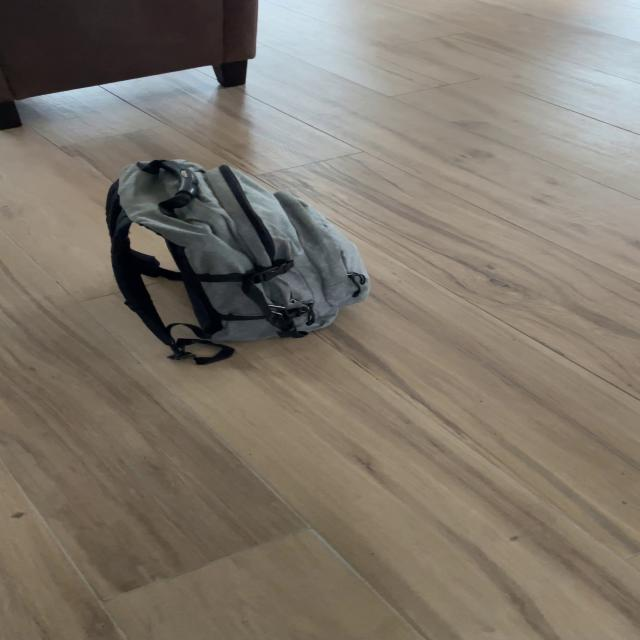backpack: (70, 148, 397, 362)
